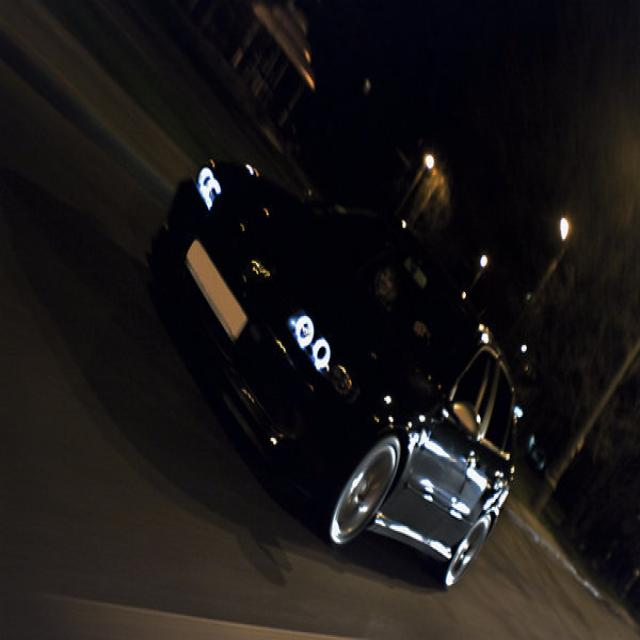People: (365, 240, 404, 323)
car: (187, 116, 553, 596)
